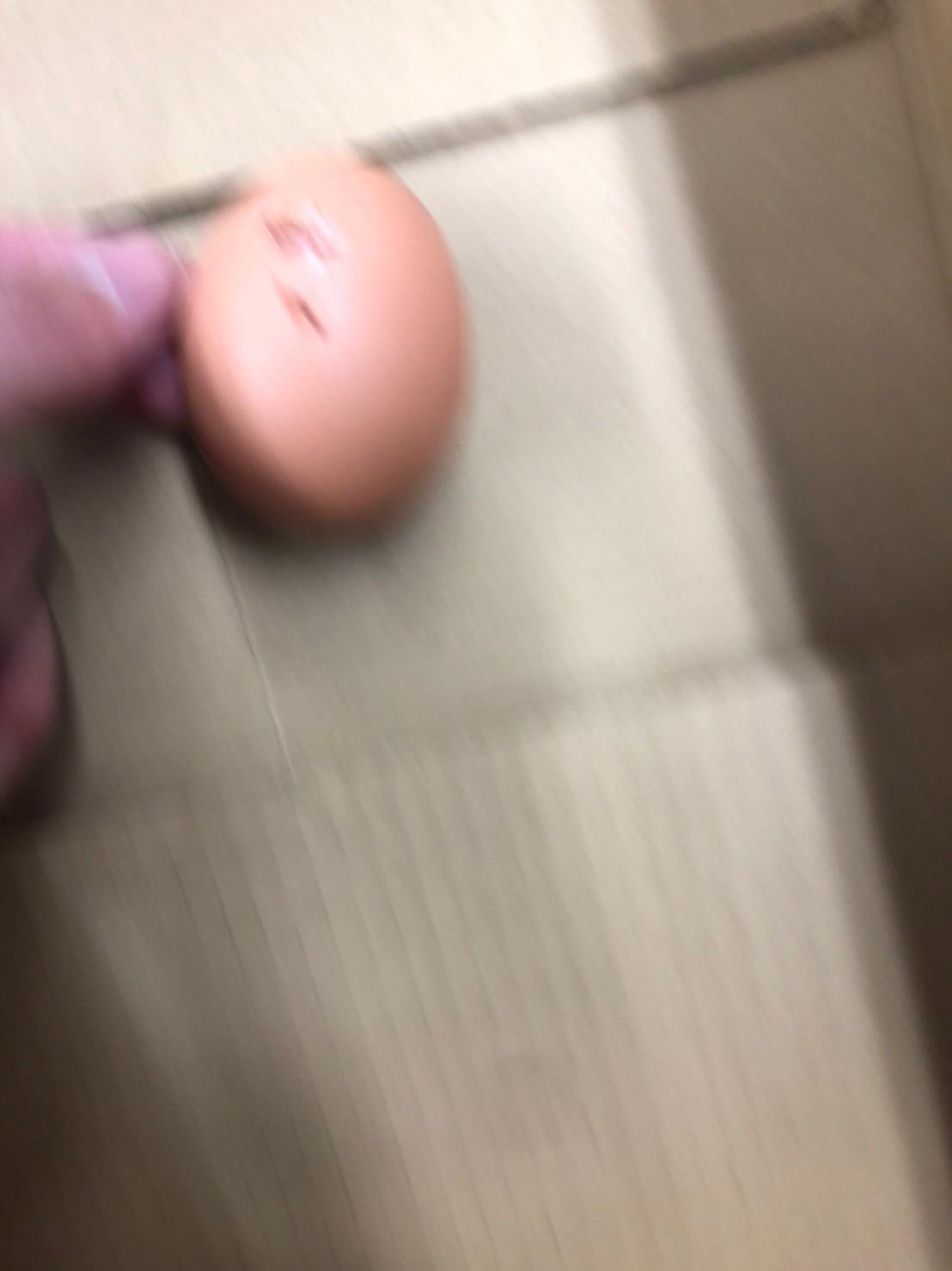egg: (173, 137, 471, 537)
